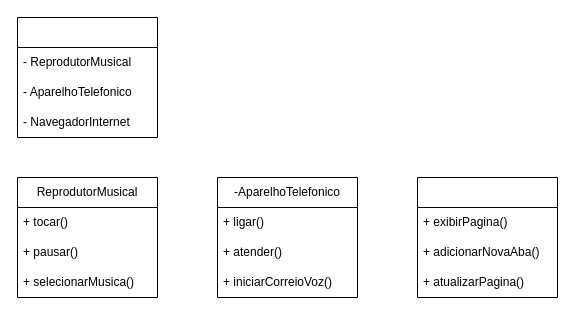
This 575x315 diagram has some shape labels left out. Each missing label, with the box of its shape:
iPhone: (16, 16, 158, 138)
NavegadorInternet: (416, 176, 558, 298)
